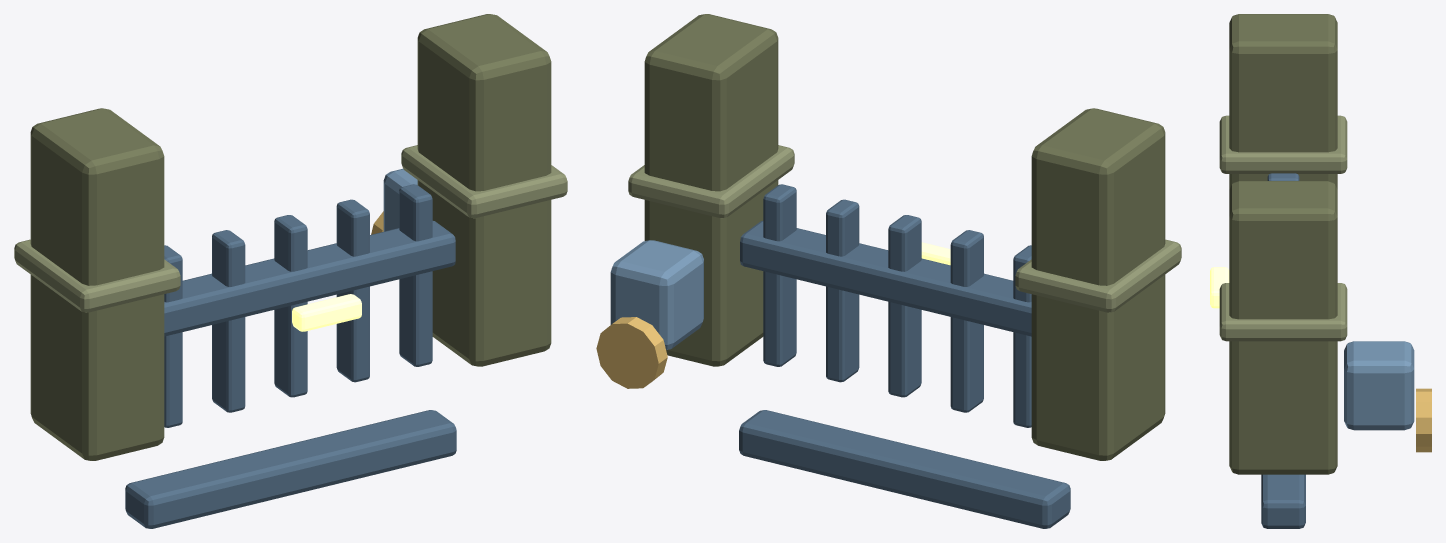
The model's file is com_gate.glb.
The picture shows the model from 3 angles, left to right: view 1: azimuth 30°, elevation 25°; view 2: azimuth 150°, elevation 25°; view 3: azimuth 270°, elevation 25°; orthographic projection. The views are drawn at different scales.
Visible parts, largest first — view 1: com_gate; view 2: com_gate; view 3: com_gate.
Boxes of the visible parts, bbox=[...] form: com_gate: bbox=[14, 14, 567, 528]; com_gate: bbox=[596, 14, 1181, 528]; com_gate: bbox=[1210, 14, 1431, 528].
Bounding box in the file's own units: 1.56 × 1.22 × 0.695.
